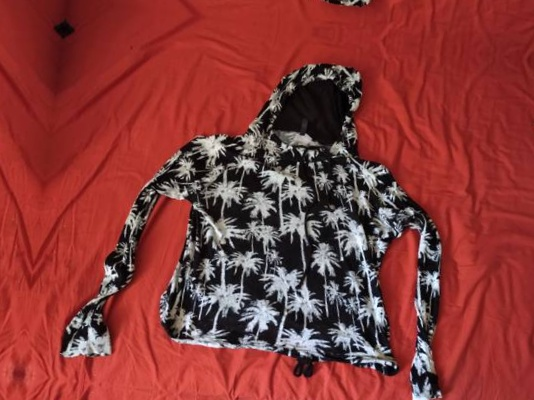Hoodie: (71, 32, 504, 400), (123, 0, 534, 31), (0, 0, 13, 359), (24, 390, 457, 400)
